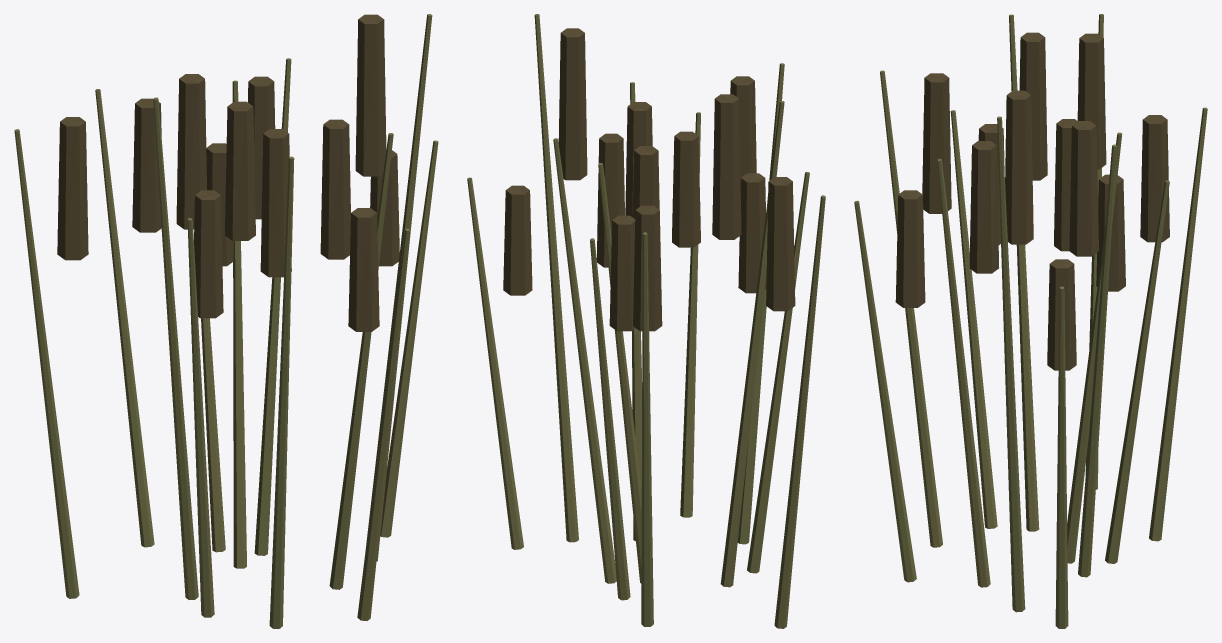
File: tall_reeds.glb
The picture shows the model from 3 angles, left to right: view 1: azimuth 30°, elevation 25°; view 2: azimuth 150°, elevation 25°; view 3: azimuth 270°, elevation 25°; orthographic projection. The views are drawn at different scales.
Visible parts, largest first — view 1: city-details/tall_reeds; view 2: city-details/tall_reeds; view 3: city-details/tall_reeds.
Boxes of the visible parts, bbox=[...] form: city-details/tall_reeds: bbox=[14, 14, 438, 628]; city-details/tall_reeds: bbox=[467, 14, 825, 628]; city-details/tall_reeds: bbox=[854, 14, 1207, 628].
Size of the model in its own units: 1.25 by 1.61 by 1.
